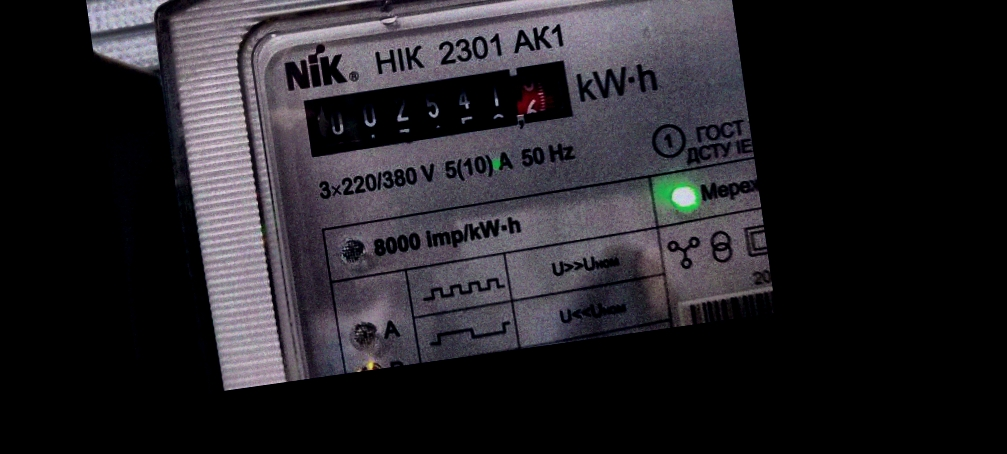0: (357, 94, 381, 130), (327, 105, 348, 136)
1: (484, 74, 504, 109)
2: (388, 89, 413, 125)
4: (453, 79, 474, 112)
5: (422, 87, 442, 120)
6: (522, 93, 540, 116)
screen: (287, 42, 596, 173)
